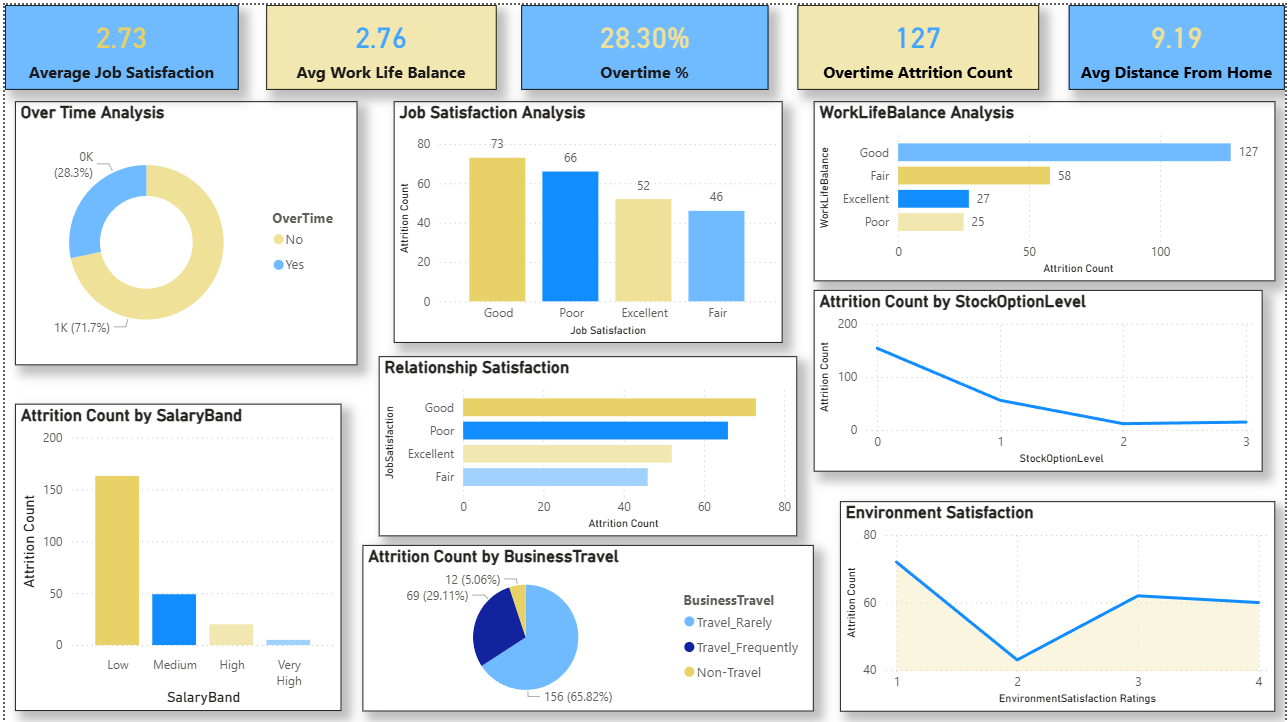

The page's visual inventory and layout, read from the dashboard file:
{"tool":"powerbi","page":{"name":"Attrition Drivers Analysis","canvas":[1280,720],"ordinal":1},"visuals":[{"type":"donutChart","title":" Over Time  Analysis","fields":{"Category":["IBM EMPLOYEE ATTRITION.OverTime"],"Y":["Measures (3).Total Employees"]},"box":[10,96.2,342.5,263.8],"z":0},{"type":"clusteredColumnChart","title":"Job Satisfaction Analysis","fields":{"Y":["Measures (3).Attrition Count"],"Category":["IBM EMPLOYEE ATTRITION.JobSatisfaction_LabelCustom"]},"box":[388.8,96.2,388.8,241.2],"z":1},{"type":"clusteredBarChart","title":" WorkLifeBalance Analysis","fields":{"Y":["Measures (3).Attrition Count"],"Category":["IBM EMPLOYEE ATTRITION.WorkLifeBalance_Label"]},"box":[808.8,96.2,461.2,180],"z":2},{"type":"stackedAreaChart","title":"Environment Satisfaction","fields":{"Category":["IBM EMPLOYEE ATTRITION.EnvironmentSatisfaction"],"Y":["Measures (3).Attrition Count"]},"box":[835,496.2,435,210],"z":3},{"type":"clusteredBarChart","title":"Relationship Satisfaction","fields":{"Y":["Measures (3).Attrition Count"],"Category":["IBM EMPLOYEE ATTRITION.JobSatisfaction_LabelCustom"]},"box":[373.8,351.2,418.8,180],"z":4},{"type":"clusteredColumnChart","fields":{"Category":["IBM EMPLOYEE ATTRITION.SalaryBand"],"Y":["Measures (3).Attrition Count"]},"box":[10,398.8,326.2,307.5],"z":5},{"type":"lineChart","fields":{"Category":["IBM EMPLOYEE ATTRITION.StockOptionLevel"],"Y":["Measures (3).Attrition Count"]},"box":[808.8,285,448.8,181.2],"z":6},{"type":"pieChart","fields":{"Category":["IBM EMPLOYEE ATTRITION.BusinessTravel"],"Y":["Measures (3).Attrition Count"]},"box":[357.5,540,451.2,166.2],"z":7},{"type":"card","fields":{"Values":["Measures (3).Average Job Satisfaction"]},"box":[0,0,233.8,85],"z":8},{"type":"card","fields":{"Values":["Measures (3).Avg Work Life Balance"]},"box":[261.2,0,230,85],"z":9},{"type":"card","fields":{"Values":["Measures (3).Overtime %"]},"box":[516.2,0,247.5,85],"z":10},{"type":"card","fields":{"Values":["Measures (3).Overtime Attrition Count"]},"box":[792.5,0,241.2,85],"z":11},{"type":"card","fields":{"Values":["Measures (3).Avg Distance From Home"]},"box":[1063.8,0,216.2,85],"z":12}]}

Visuals, with their boxes in screenshot pixels (x1, y1, x2, y2), scaled from the page's 1280x720 canvas onto the 1288x722 screenshot:
" Over Time  Analysis" donutChart: x1=10 y1=96 x2=355 y2=361
"Job Satisfaction Analysis" clusteredColumnChart: x1=391 y1=96 x2=782 y2=338
" WorkLifeBalance Analysis" clusteredBarChart: x1=814 y1=96 x2=1278 y2=277
"Environment Satisfaction" stackedAreaChart: x1=840 y1=498 x2=1278 y2=708
"Relationship Satisfaction" clusteredBarChart: x1=376 y1=352 x2=798 y2=533
clusteredColumnChart - IBM EMPLOYEE ATTRITION.SalaryBand x Measures (3).Attrition Count: x1=10 y1=400 x2=338 y2=708
lineChart - IBM EMPLOYEE ATTRITION.StockOptionLevel x Measures (3).Attrition Count: x1=814 y1=286 x2=1265 y2=467
pieChart - IBM EMPLOYEE ATTRITION.BusinessTravel x Measures (3).Attrition Count: x1=360 y1=542 x2=814 y2=708
card - Measures (3).Average Job Satisfaction: x1=0 y1=0 x2=235 y2=85
card - Measures (3).Avg Work Life Balance: x1=263 y1=0 x2=494 y2=85
card - Measures (3).Overtime %: x1=519 y1=0 x2=768 y2=85
card - Measures (3).Overtime Attrition Count: x1=797 y1=0 x2=1040 y2=85
card - Measures (3).Avg Distance From Home: x1=1070 y1=0 x2=1287 y2=85
